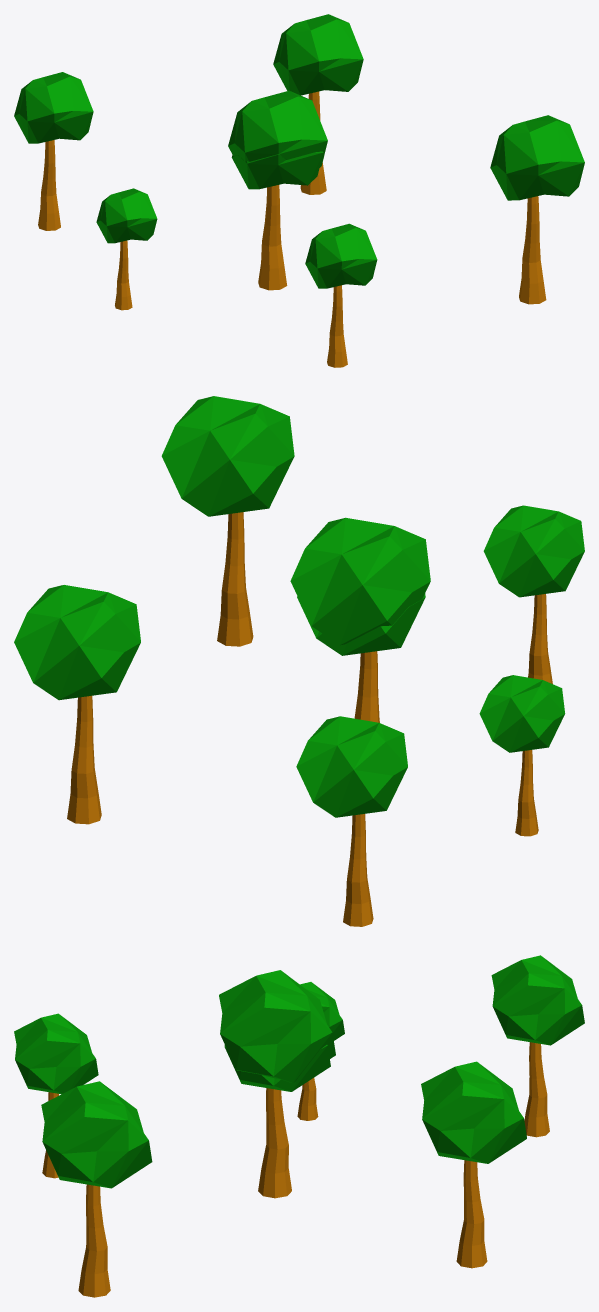
The model's file is Tree 3 Group.fbx.
3 renders of one model, top to bottom at view 1: azimuth 30°, elevation 25°; view 2: azimuth 150°, elevation 25°; view 3: azimuth 270°, elevation 25°, orthographic. The views are drawn at different scales.
Visible parts, largest first — view 1: Tree 3 Group; view 2: Tree 3 Group; view 3: Tree 3 Group.
Part boxes in pixels (<box>): Tree 3 Group: <box>14,14,584,367</box>; Tree 3 Group: <box>14,396,584,926</box>; Tree 3 Group: <box>14,955,584,1297</box>.
Size of the model in its own units: 1232 by 580 by 1424.
